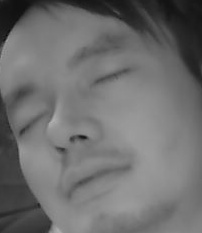blink: (17, 109, 53, 136), (93, 64, 130, 89)
mouth: (59, 154, 133, 203)
